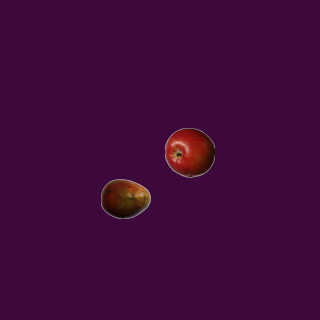Apple Braeburn: (164, 127, 214, 177)
Mango Red: (100, 173, 150, 223)
